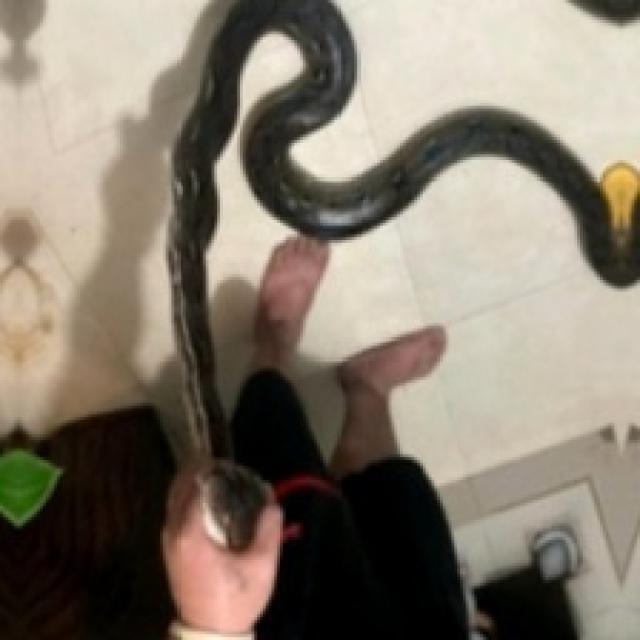reticulated python: (169, 0, 637, 546)
